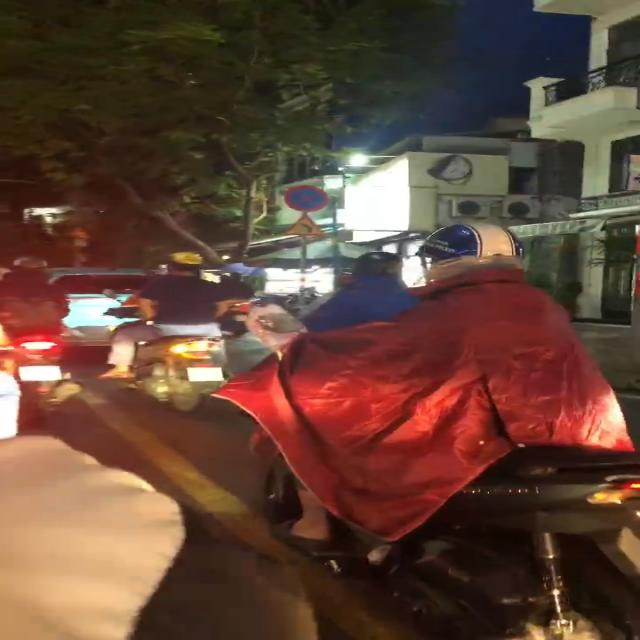Bien bao cho ngoat nguy hiem: (279, 211, 335, 238)
